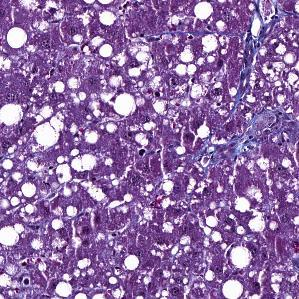fibrosis: (221, 103, 287, 157)
